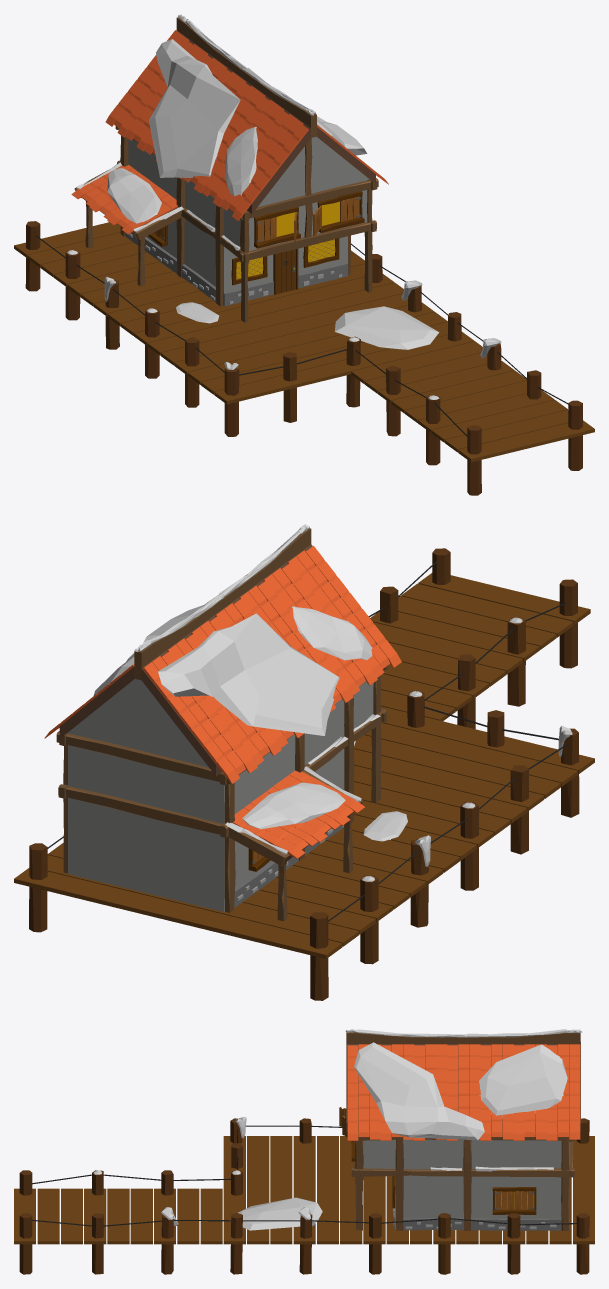
The model's file is House_05_Merge.fbx.
The picture shows the model from 3 angles, top to bottom: view 1: azimuth 30°, elevation 25°; view 2: azimuth 150°, elevation 25°; view 3: azimuth 270°, elevation 25°; orthographic projection. The views are drawn at different scales.
Parts seen in each view (by area): view 1: House_05_Merged_fix; view 2: House_05_Merged_fix; view 3: House_05_Merged_fix.
Boxes of the visible parts, bbox=[...] form: House_05_Merged_fix: bbox=[14, 14, 594, 495]; House_05_Merged_fix: bbox=[14, 524, 594, 1000]; House_05_Merged_fix: bbox=[14, 1029, 594, 1274].
Size of the model in its own units: 621 by 575 by 1447.
